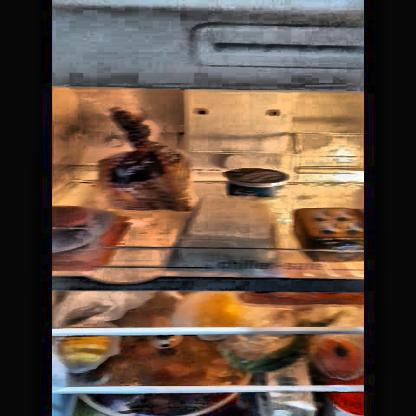butter: (294, 209, 365, 263)
cheese: (173, 198, 272, 266)
green_chillies: (220, 335, 308, 372)
lemon: (190, 291, 248, 339), (58, 332, 118, 374)
salami: (50, 201, 111, 264)
tomato: (310, 336, 367, 382)
yoghurt: (227, 166, 288, 198)
